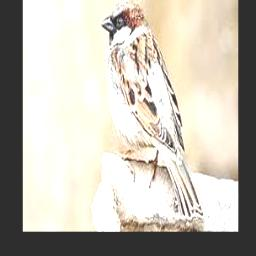Sparrow: (100, 0, 203, 219)
